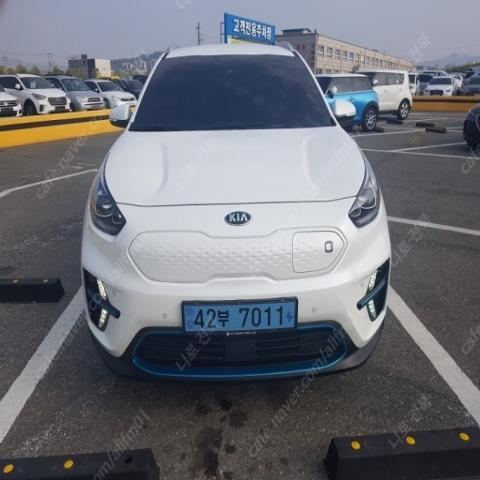LP: (176, 291, 302, 342)
